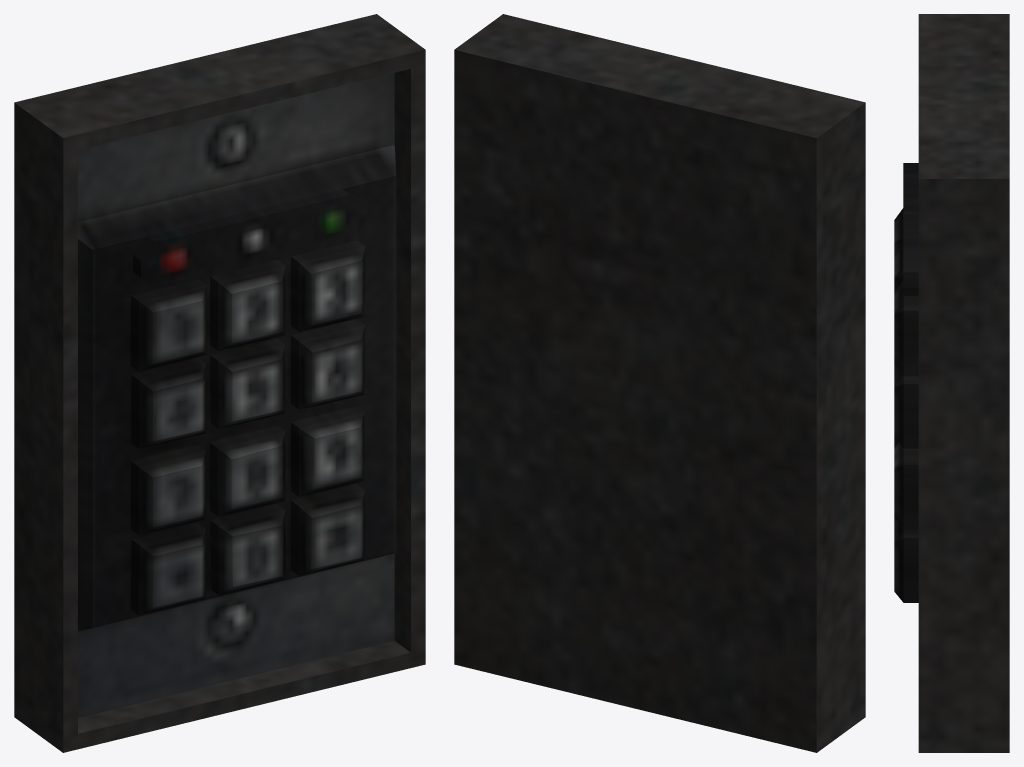
File: keypad_2.obj
3 views of the same model, side by side, from view 1: azimuth 30°, elevation 25°; view 2: azimuth 150°, elevation 25°; view 3: azimuth 270°, elevation 25° (orthographic). The views are drawn at different scales.
Parts seen in each view (by area): view 1: keypad_2; view 2: keypad_2; view 3: keypad_2.
Boxes of the visible parts, box(x1,y1,x2,y2) form: keypad_2: box(14, 14, 425, 752); keypad_2: box(454, 14, 865, 752); keypad_2: box(894, 14, 1009, 752).
Bounding box in the file's own units: 0.1284 × 0.208 × 0.038.
